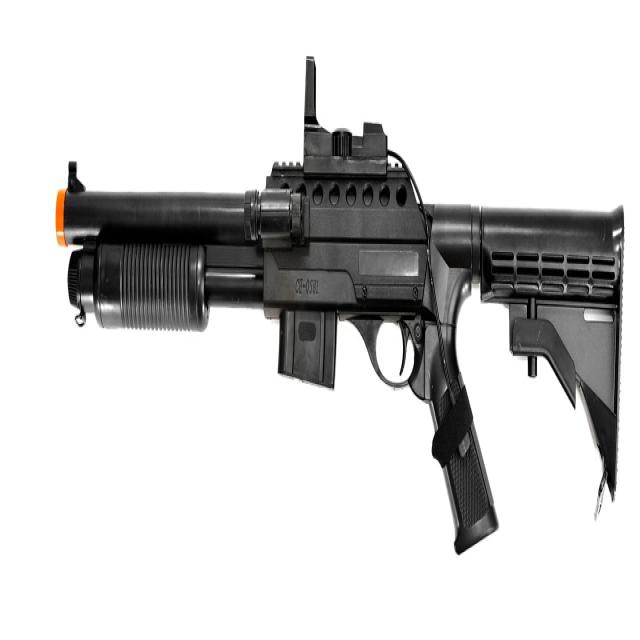ShotGun: (56, 56, 626, 556)
